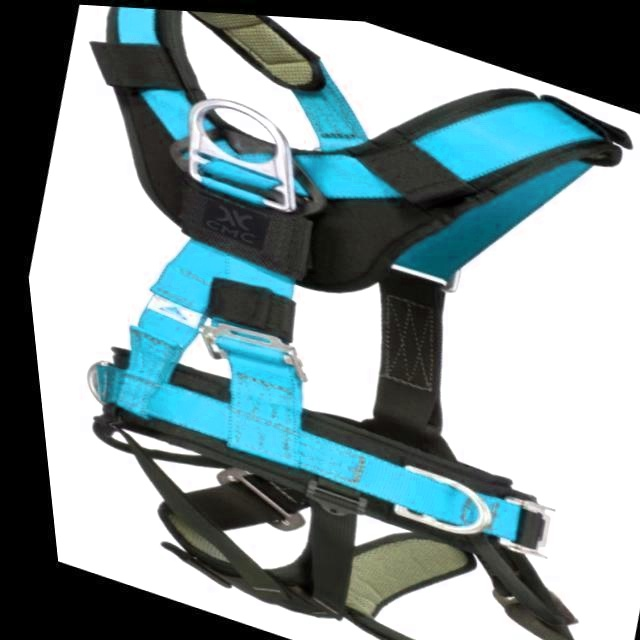safety belt: (64, 11, 587, 627)
